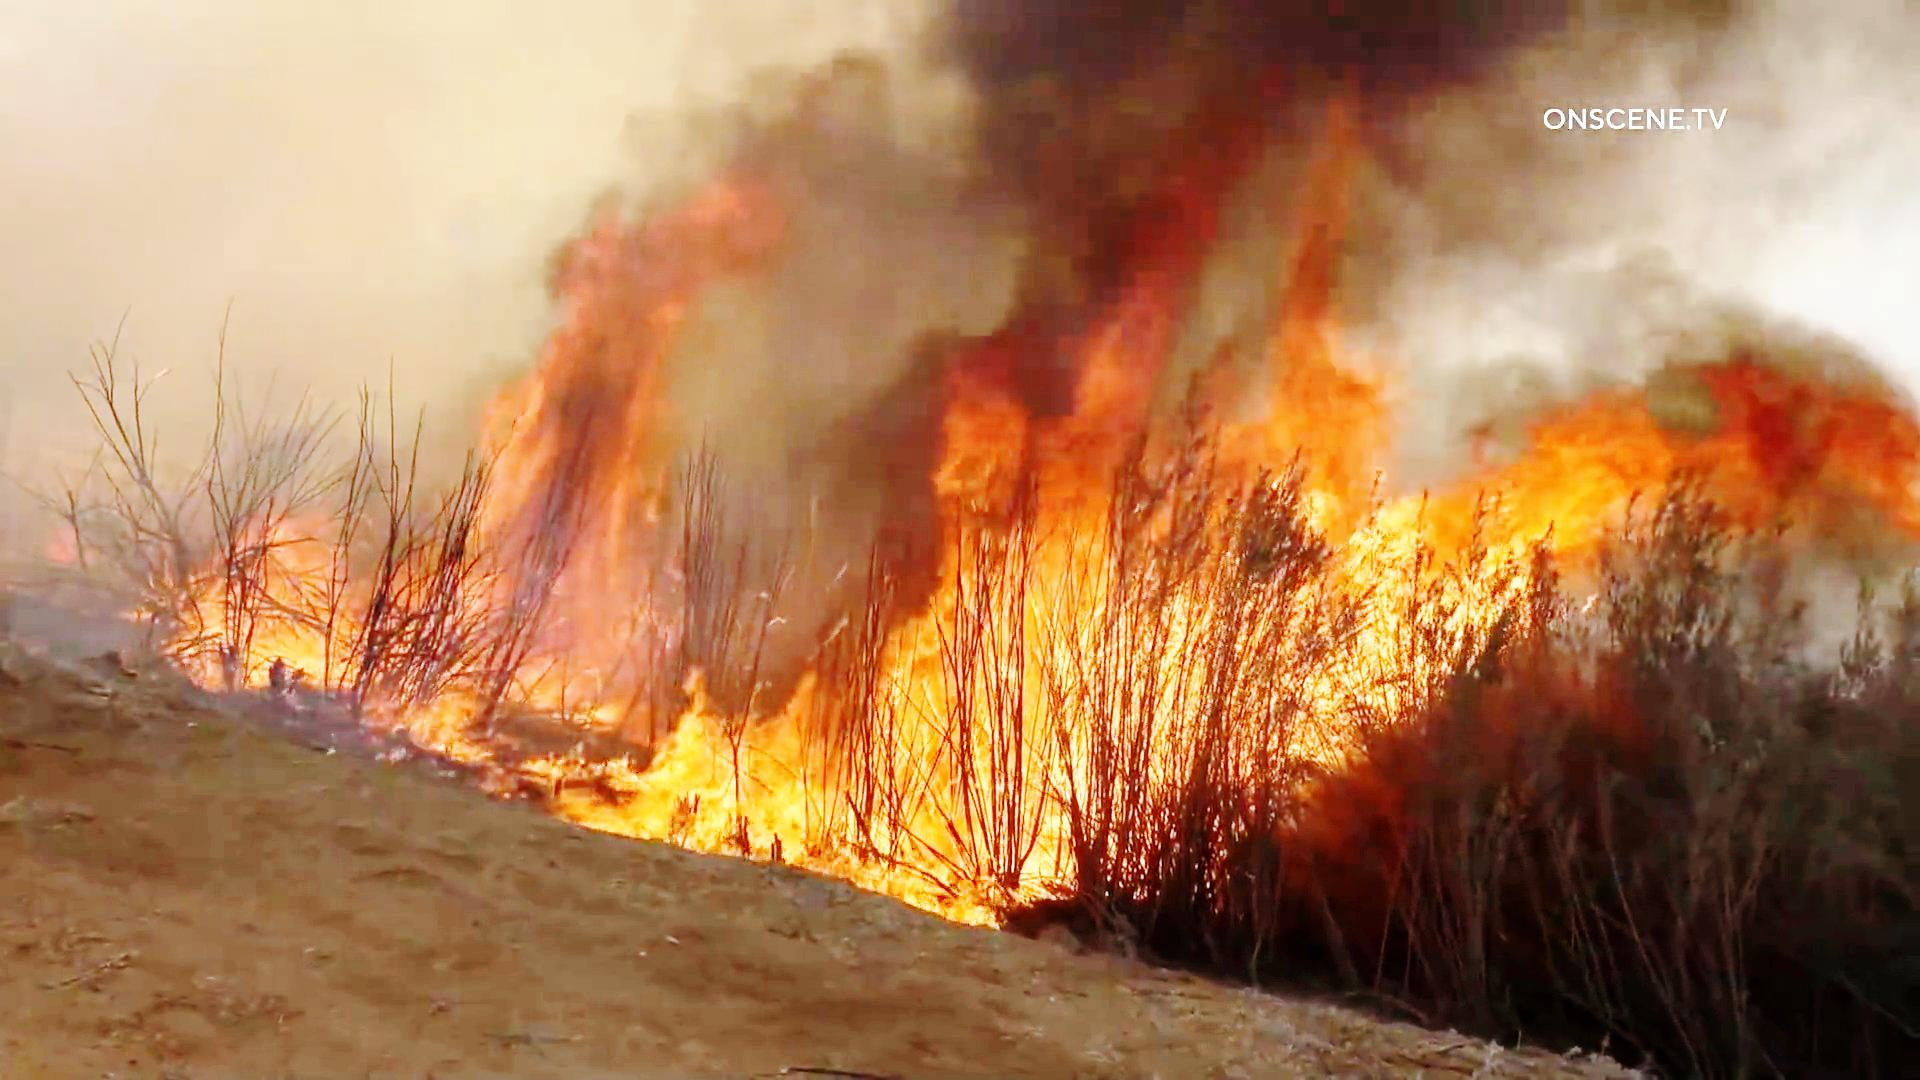fire: (761, 313, 1168, 898), (438, 193, 786, 790), (1213, 410, 1638, 579)
smoke: (1510, 183, 1892, 381), (856, 0, 1159, 207), (815, 29, 930, 413), (1406, 22, 1513, 426), (193, 513, 359, 704)
